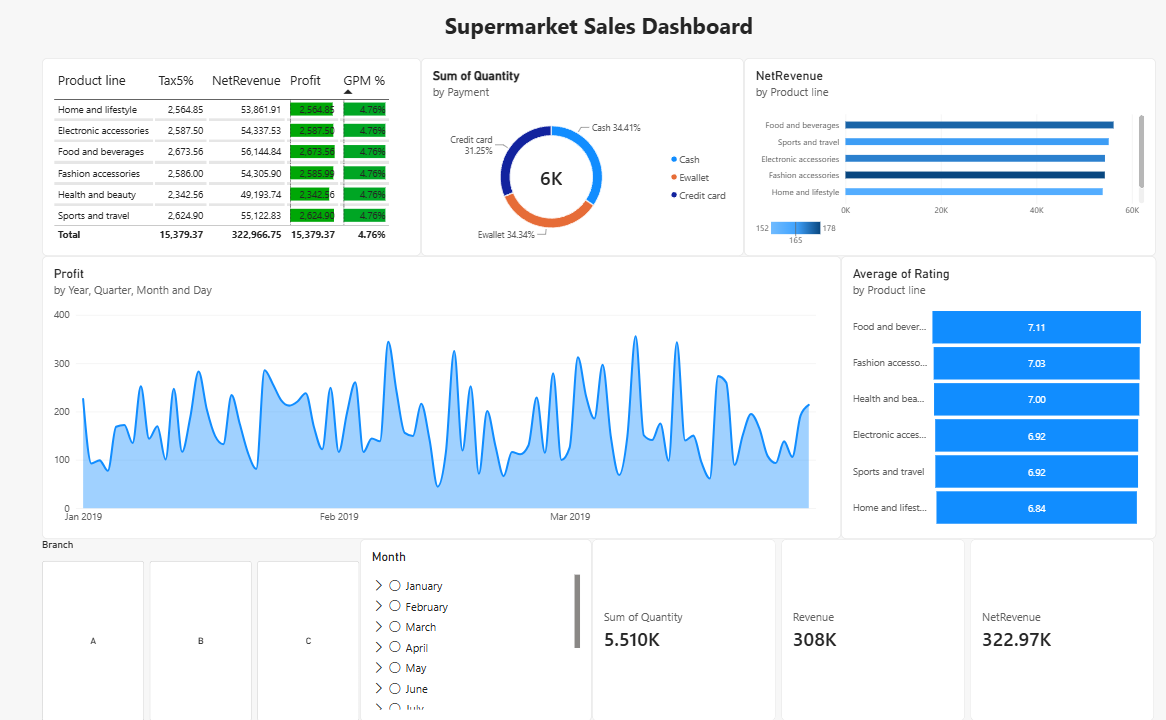

The page's visual inventory and layout, read from the dashboard file:
{"tool":"powerbi","page":{"name":"Deck-1","canvas":[1920,1080],"ordinal":0},"visuals":[{"type":"tableEx","fields":{"Values":["supermarket_sales.Product line","supermarket_sales.Tax5%","supermarket_sales.NetRevenue","supermarket_sales.Profit","supermarket_sales.GPM %"]},"box":[100.7,110.9,552.9,288.9],"z":0,"group":"g1"},{"type":"donutChart","fields":{"Category":["supermarket_sales.Payment"],"Y":["Sum(supermarket_sales.Quantity)"]},"box":[653.6,110.9,471.2,288.9],"z":1000,"group":"g1"},{"type":"barChart","fields":{"Category":["supermarket_sales.Product line"],"Y":["supermarket_sales.NetRevenue"]},"box":[1124.9,110.9,601.1,288.9],"z":2000,"group":"g1"},{"type":"areaChart","fields":{"Category":["supermarket_sales.Date.Variation.Date Hierarchy.Year","supermarket_sales.Date.Variation.Date Hierarchy.Quarter","supermarket_sales.Date.Variation.Date Hierarchy.Month","supermarket_sales.Date.Variation.Date Hierarchy.Day"],"Y":["supermarket_sales.Profit"]},"box":[100.7,399.8,1165.7,412.9],"z":3000,"group":"g1"},{"type":"funnel","fields":{"Category":["supermarket_sales.Product line"],"Y":["Avg(supermarket_sales.Rating)"]},"box":[1266.4,399.8,459.6,412.9],"z":4000,"group":"g1"},{"type":"cardVisual","title":"Quantity Sales","fields":{"Data":["Sum(supermarket_sales.Quantity)","supermarket_sales.Revenue","supermarket_sales.NetRevenue"]},"box":[903.1,812.7,822.9,267],"z":5000,"group":"g1"},{"type":"advancedSlicerVisual","fields":{"Values":["supermarket_sales.Branch"]},"box":[100.7,812.7,464,267],"z":6000,"group":"g1"},{"type":"listSlicer","fields":{"Values":["supermarket_sales.Date.Variation.Date Hierarchy.Month","supermarket_sales.Date.Variation.Date Hierarchy.Day"]},"box":[564.7,812.7,338.5,267],"z":7000,"group":"g1"},{"type":"group","id":"g1","title":"Group 1","box":[100.7,110.9,1625.3,968.8],"z":7001},{"type":"textbox","box":[100.7,40.9,1625.3,55.4],"z":7003}]}

Visuals, with their boxes on the page's 1920x1080 design canvas (x1, y1, x2, y2). These are canvas units, not pixel positions in the 1166x720 screenshot, which may show the page scaled, cropped or inside an application window:
tableEx - supermarket_sales.Product line x supermarket_sales.Tax5%: x1=101 y1=111 x2=654 y2=400
donutChart - supermarket_sales.Payment x Sum(supermarket_sales.Quantity): x1=654 y1=111 x2=1125 y2=400
barChart - supermarket_sales.Product line x supermarket_sales.NetRevenue: x1=1125 y1=111 x2=1726 y2=400
areaChart - supermarket_sales.Date.Variation.Date Hierarchy.Year x supermarket_sales.Date.Variation.Date Hierarchy.Quarter: x1=101 y1=400 x2=1266 y2=813
funnel - supermarket_sales.Product line x Avg(supermarket_sales.Rating): x1=1266 y1=400 x2=1726 y2=813
"Quantity Sales" cardVisual: x1=903 y1=813 x2=1726 y2=1080
advancedSlicerVisual - supermarket_sales.Branch: x1=101 y1=813 x2=565 y2=1080
listSlicer - supermarket_sales.Date.Variation.Date Hierarchy.Month x supermarket_sales.Date.Variation.Date Hierarchy.Day: x1=565 y1=813 x2=903 y2=1080
"Group 1" group: x1=101 y1=111 x2=1726 y2=1080
textbox: x1=101 y1=41 x2=1726 y2=96
